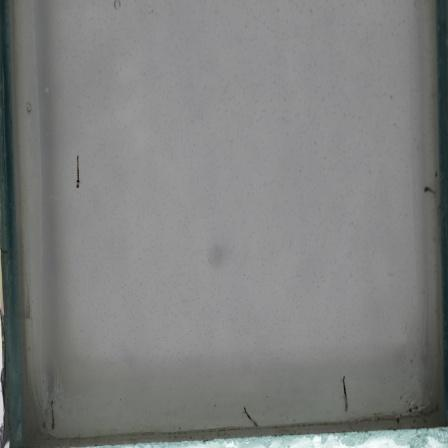Jentik-Nyamuk: (338, 372, 353, 417), (43, 396, 60, 434), (70, 151, 84, 196), (239, 403, 261, 431), (419, 182, 435, 199)
